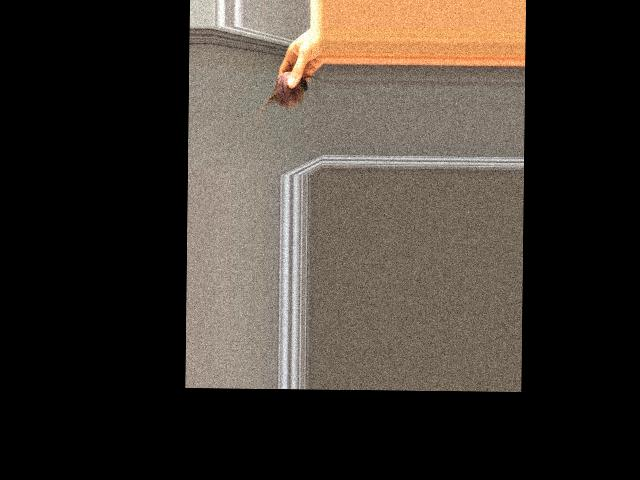beet: (257, 71, 323, 128)
